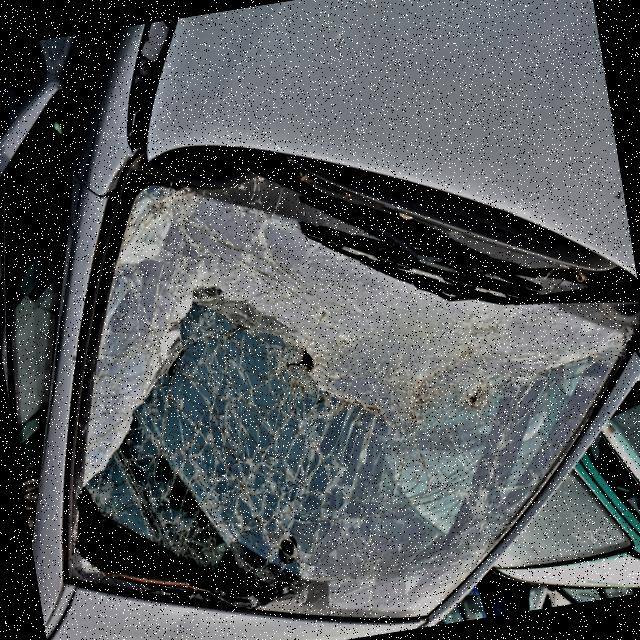Windshield: (30, 86, 578, 640)
